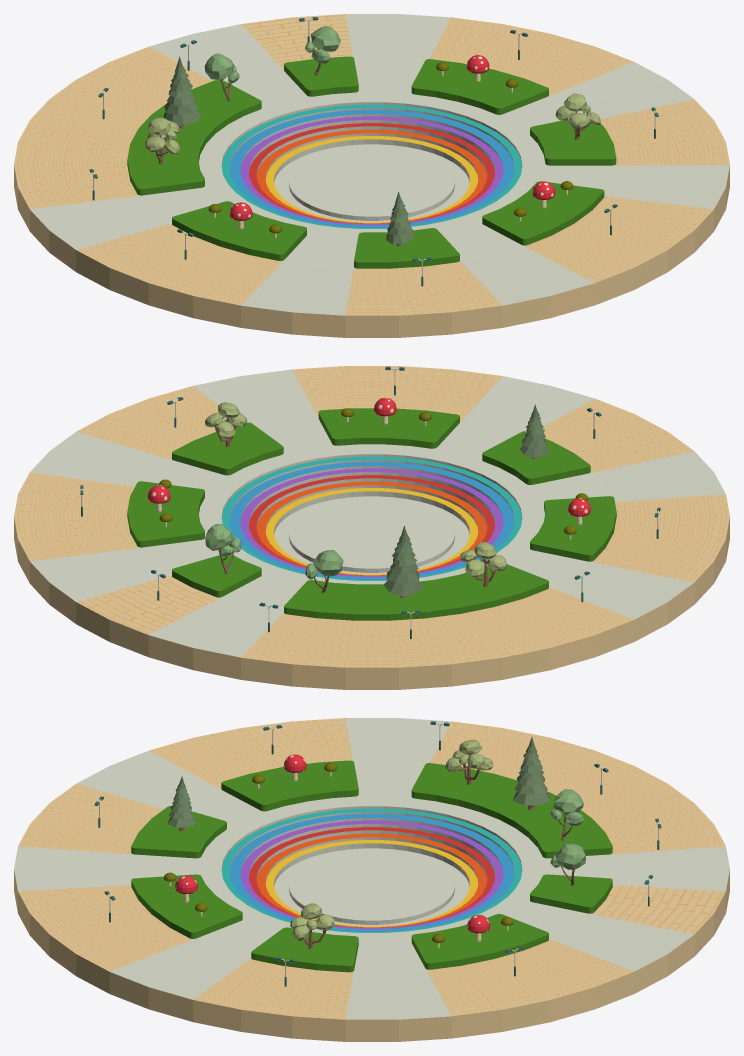
The model's file is Milestone_D4.fbx.
3 views of the same model, one above another, from view 1: azimuth 30°, elevation 25°; view 2: azimuth 150°, elevation 25°; view 3: azimuth 270°, elevation 25° (orthographic).
Parts seen in each view (by area): view 1: Cylinder.126; view 2: Cylinder.126; view 3: Cylinder.126.
Part boxes in pixels (<box>): Cylinder.126: <box>14,14,729,337</box>; Cylinder.126: <box>14,366,729,689</box>; Cylinder.126: <box>14,718,729,1041</box>.
Bounding box in the file's own units: 12156 × 1873 × 12190.
Materials: 10 (3 with a texture image).
